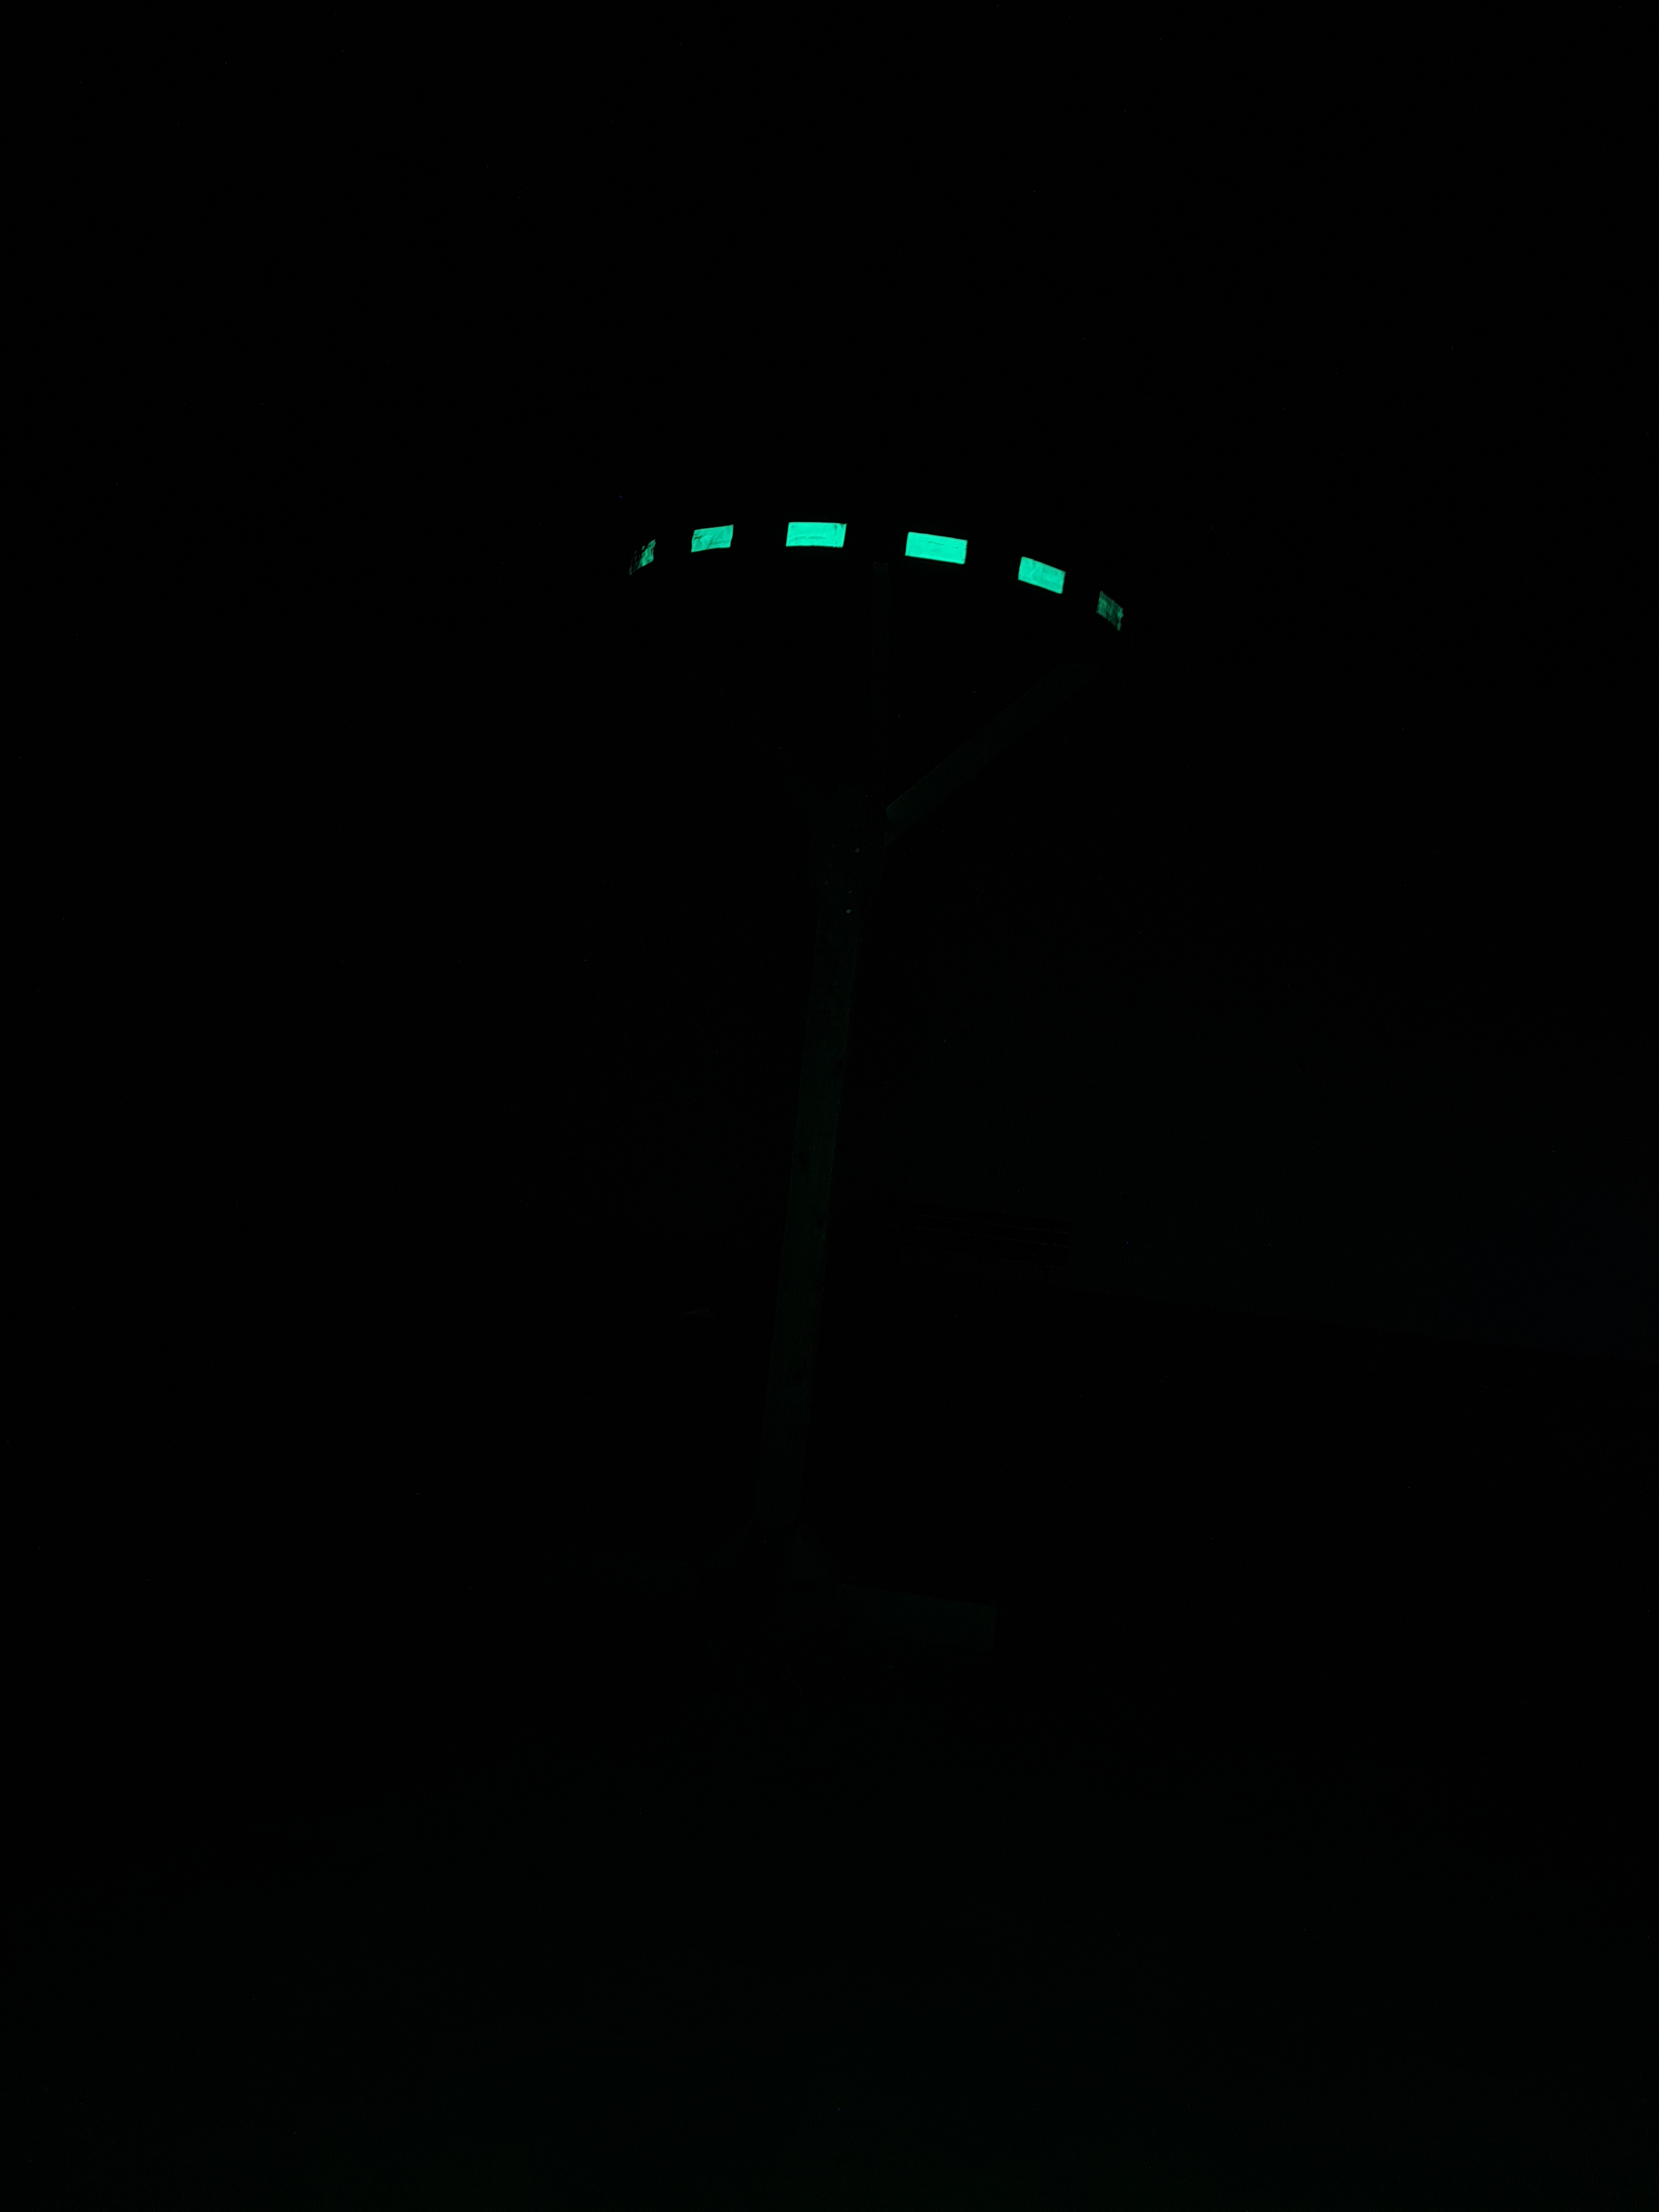hoop: (622, 500, 1129, 639)
